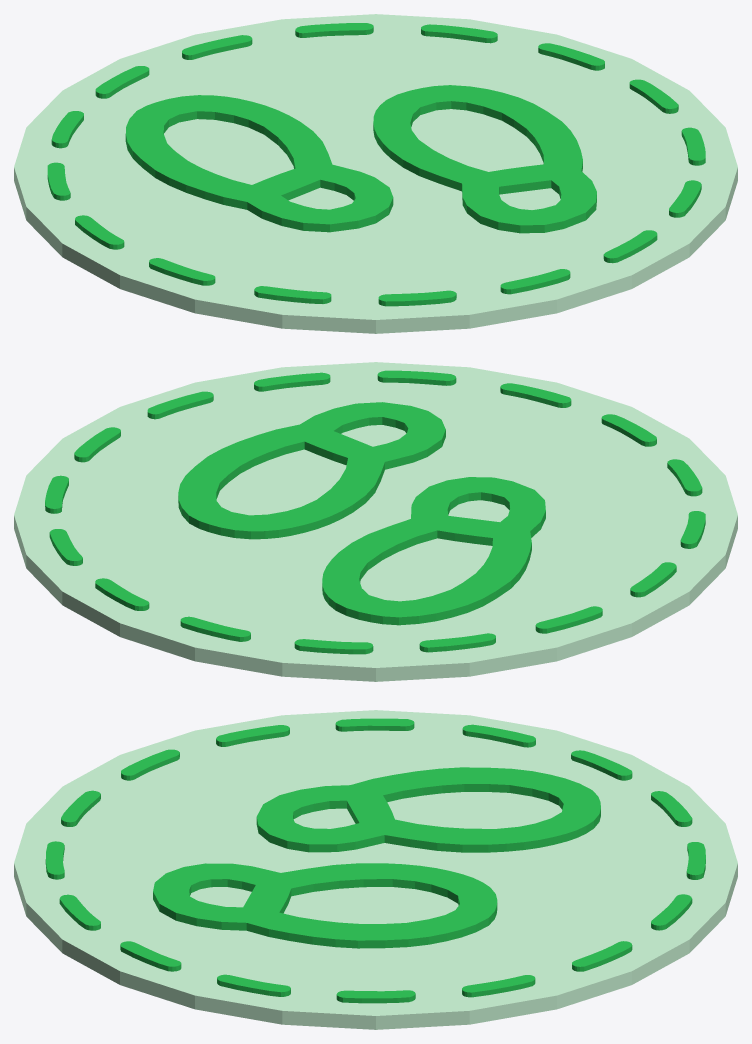
Rendered from Dấu chân màu xanh.fbx.
The picture shows the model from 3 angles, top to bottom: view 1: azimuth 30°, elevation 25°; view 2: azimuth 150°, elevation 25°; view 3: azimuth 270°, elevation 25°; orthographic projection.
Parts seen in each view (by area): view 1: Plane.019; view 2: Plane.019; view 3: Plane.019.
Boxes of the visible parts, bbox=[...] form: Plane.019: bbox=[14, 14, 737, 333]; Plane.019: bbox=[14, 362, 737, 681]; Plane.019: bbox=[14, 710, 737, 1029].
Size of the model in its own units: 496 by 17.22 by 496.
